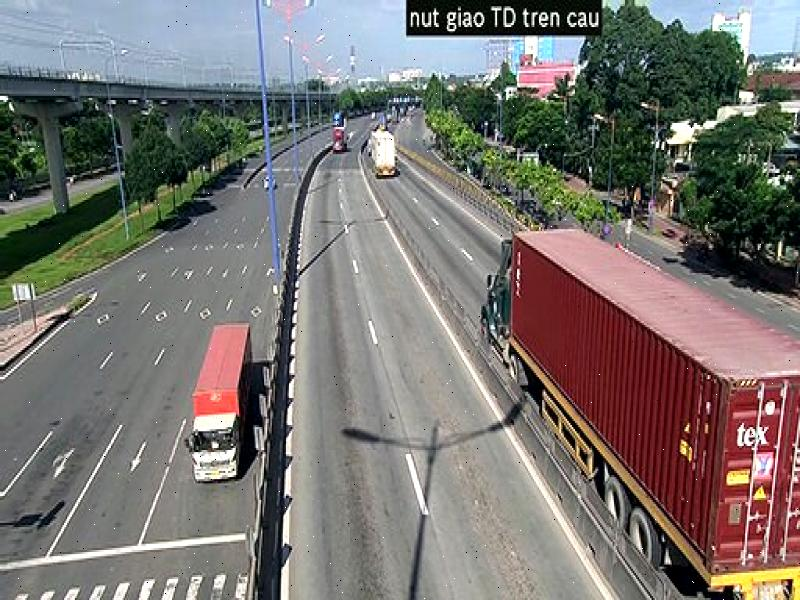truck: (184, 323, 254, 488)
